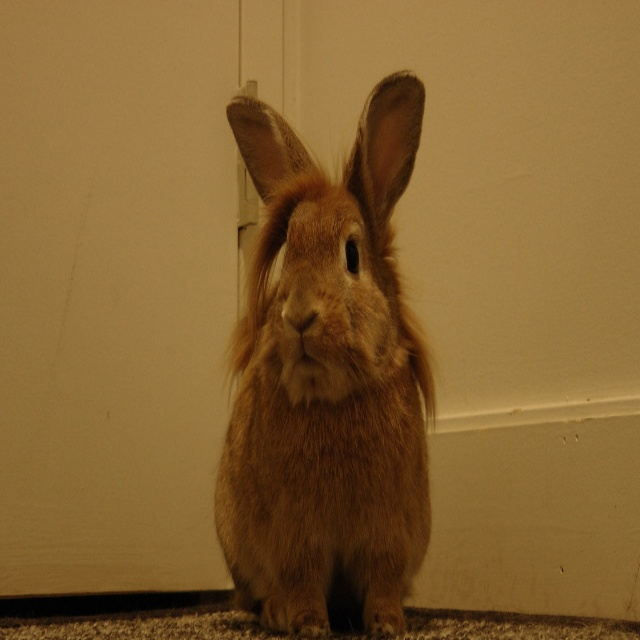Rabbit: (214, 69, 437, 640)
